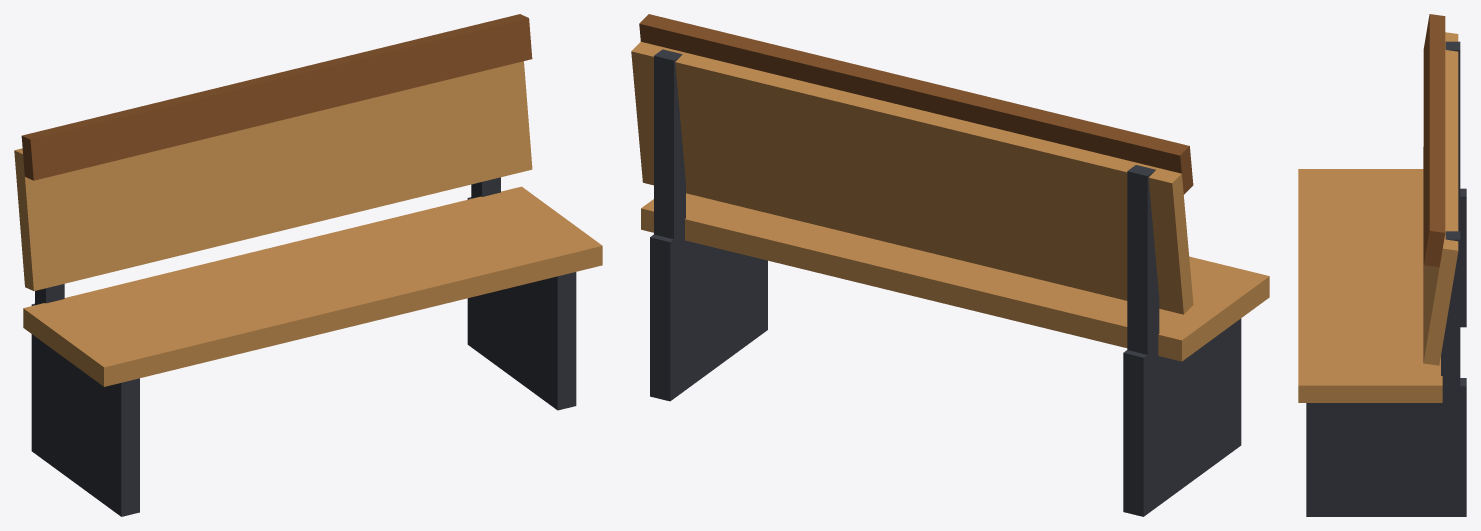
Rendered from park_bench.glb.
The picture shows the model from 3 angles, left to right: view 1: azimuth 30°, elevation 25°; view 2: azimuth 150°, elevation 25°; view 3: azimuth 270°, elevation 25°; orthographic projection. The views are drawn at different scales.
Parts seen in each view (by area): view 1: park_bench; view 2: park_bench; view 3: park_bench.
Part boxes in pixels (x1,y1,x2,y2): park_bench: (14,14,602,516); park_bench: (631,14,1269,516); park_bench: (1298,14,1466,516).
Bounding box in the file's own units: 1.6 × 1.02 × 0.525.
